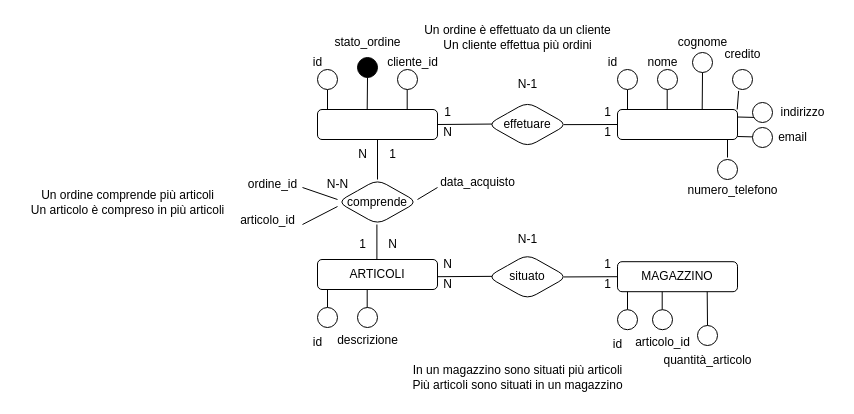
This 854x414 diagram has some shape labels left out. Each missing label, with the centre of its shape:
"CLIENTI" belongs at (x=677, y=124).
"ORDINI" belongs at (x=377, y=124).
